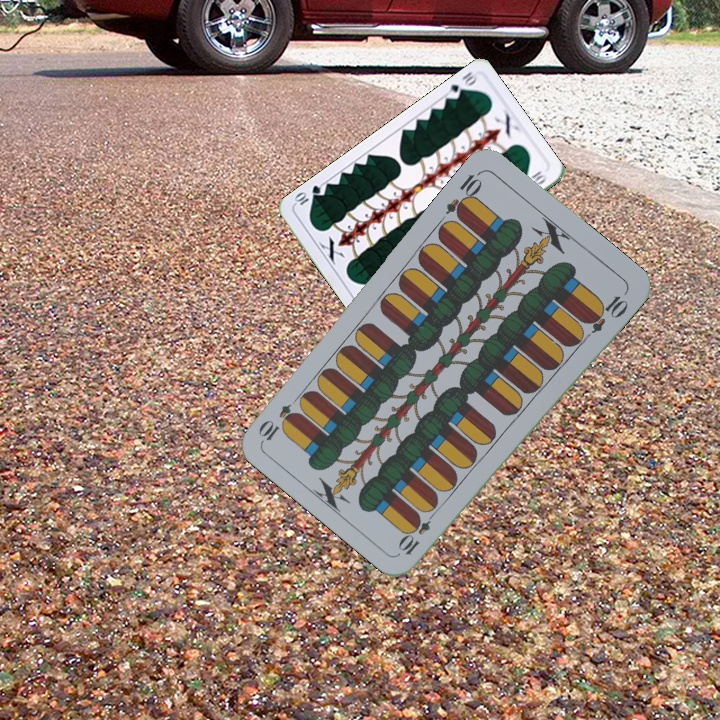E10: (441, 167, 485, 222), (395, 505, 440, 558)
G10: (442, 68, 480, 102)
